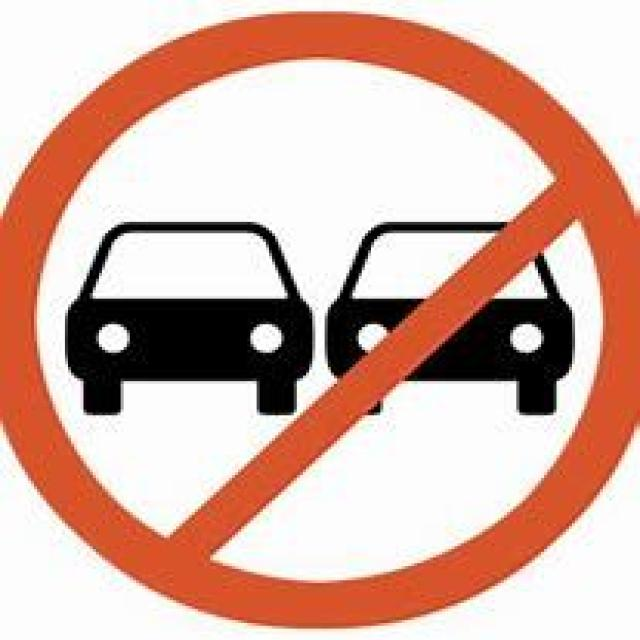no_stop: (0, 6, 637, 626)
